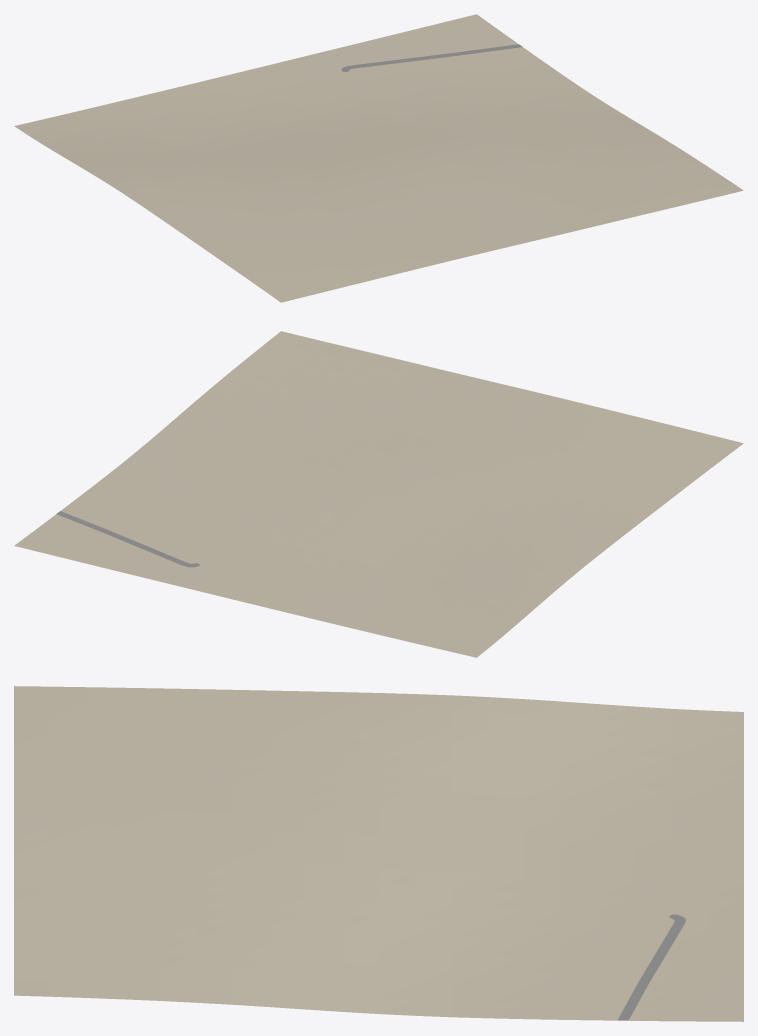
Rendered from bolak_-8_-14.glb.
The picture shows the model from 3 angles, top to bottom: view 1: azimuth 30°, elevation 25°; view 2: azimuth 150°, elevation 25°; view 3: azimuth 270°, elevation 25°; orthographic projection. The views are drawn at different scales.
Parts seen in each view (by area): view 1: Yer_Tuproq-col, Yol_Mahalla-col; view 2: Yer_Tuproq-col, Yol_Mahalla-col; view 3: Yer_Tuproq-col, Yol_Mahalla-col.
Part boxes in pixels (x1,y1,x2,y2): Yer_Tuproq-col: (14, 14, 743, 302); Yol_Mahalla-col: (341, 44, 522, 71); Yer_Tuproq-col: (14, 331, 743, 657); Yol_Mahalla-col: (56, 511, 199, 567); Yer_Tuproq-col: (14, 686, 743, 1021); Yol_Mahalla-col: (618, 914, 685, 1020).
Size of what is drawn, in the model's own units: 400 by 17.06 by 400.
